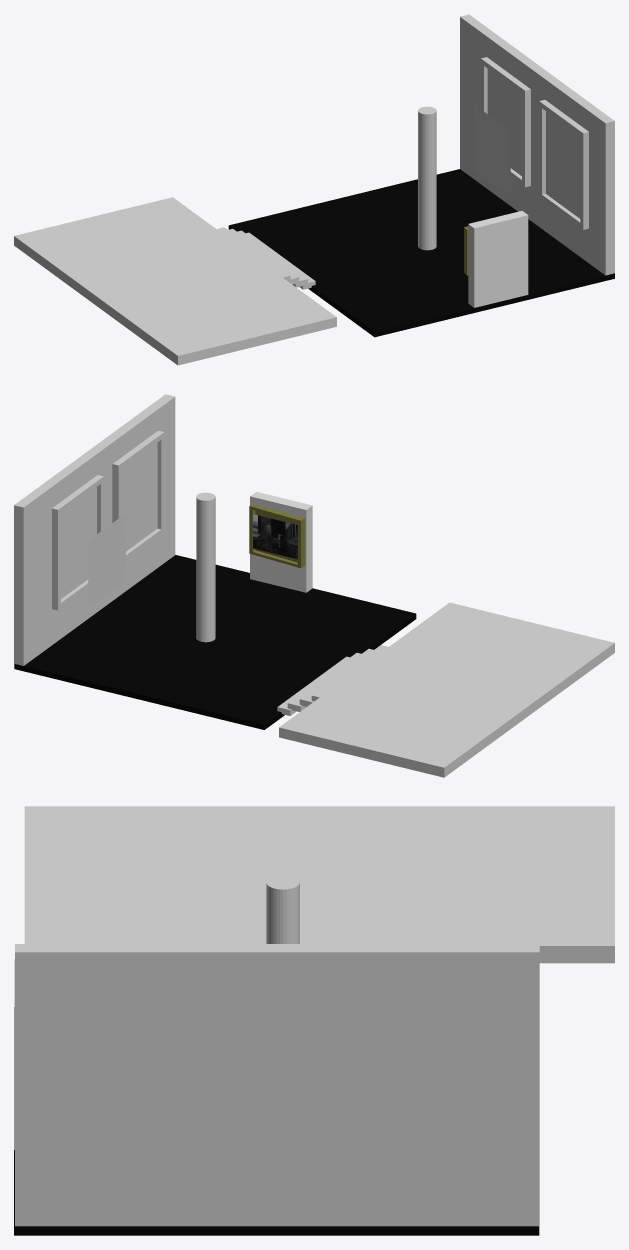
3 renders of one model, top to bottom at view 1: azimuth 30°, elevation 25°; view 2: azimuth 150°, elevation 25°; view 3: azimuth 270°, elevation 25°, orthographic. The views are drawn at different scales.
Visible parts, largest first — view 1: Cube.003, Cube, Cube.002, Cube.001, Cube.009, Cube.008, Cylinder, Plane, Cube.007; view 2: Cube, Cube.003, Cube.002, Cube.009, Cube.008, Cylinder, Cube.001, Plane, Cuervo-Azotea, Cube.010, Cube.007; view 3: Cube.002, Cube.003, Cube, Cylinder.
Boxes of the visible parts, <box> form: Cube.003: <box>14,197,336,365</box>; Cube: <box>228,169,614,337</box>; Cube.002: <box>460,14,614,275</box>; Cube.001: <box>468,211,528,307</box>; Cube.009: <box>539,100,588,229</box>; Cube.008: <box>481,57,530,187</box>; Cylinder: <box>418,106,436,250</box>; Plane: <box>474,104,510,195</box>; Cube.007: <box>217,227,290,281</box>; Cube: <box>14,555,416,729</box>; Cube.003: <box>279,602,614,777</box>; Cube.002: <box>14,394,175,665</box>; Cube.009: <box>112,430,164,560</box>; Cube.008: <box>52,475,103,610</box>; Cylinder: <box>196,492,215,642</box>; Cube.001: <box>250,492,312,592</box>; Plane: <box>88,513,126,608</box>; Cuervo-Azotea: <box>253,514,297,559</box>; Cube.010: <box>249,504,305,568</box>; Cube.007: <box>311,645,388,701</box>; Cube.002: <box>15,944,539,1226</box>; Cube.003: <box>24,806,614,963</box>; Cube: <box>14,1150,539,1235</box>; Cylinder: <box>266,875,299,943</box>.
Size of the model in its own units: 13.81 by 4.78 by 9.19.
Materials: 4 (1 with a texture image).
